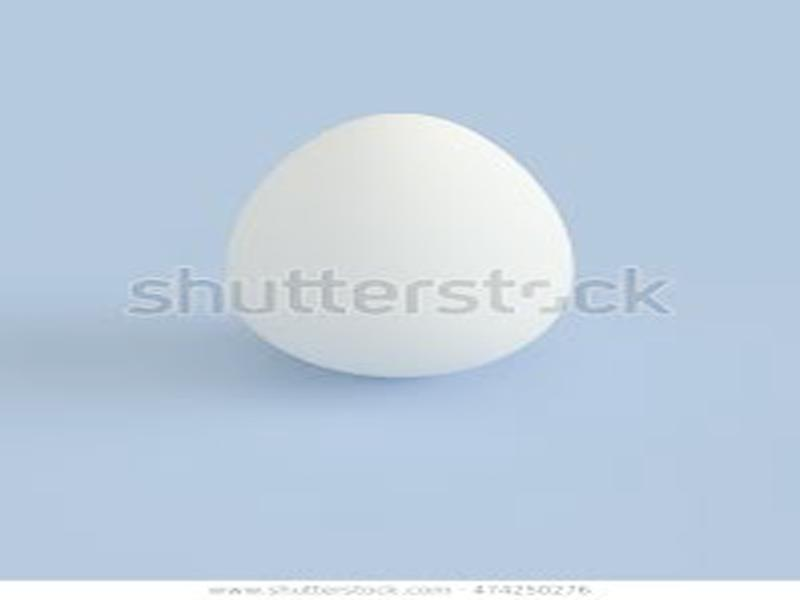Eggs: (225, 114, 575, 379)
